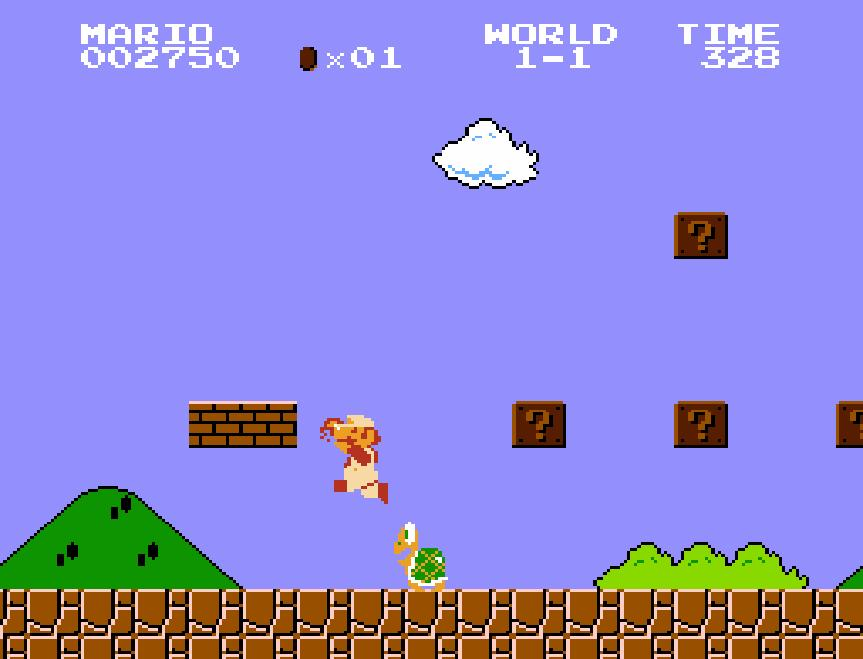fire_mario: (332, 408, 390, 506)
